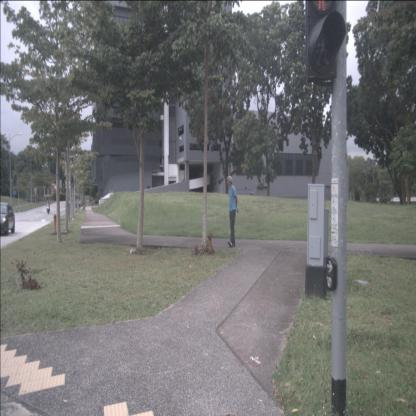human-pedestrian-adult: (226, 176, 239, 247)
vehicle-car: (0, 202, 15, 236)
vehicle-motorcycle: (46, 200, 50, 214)
